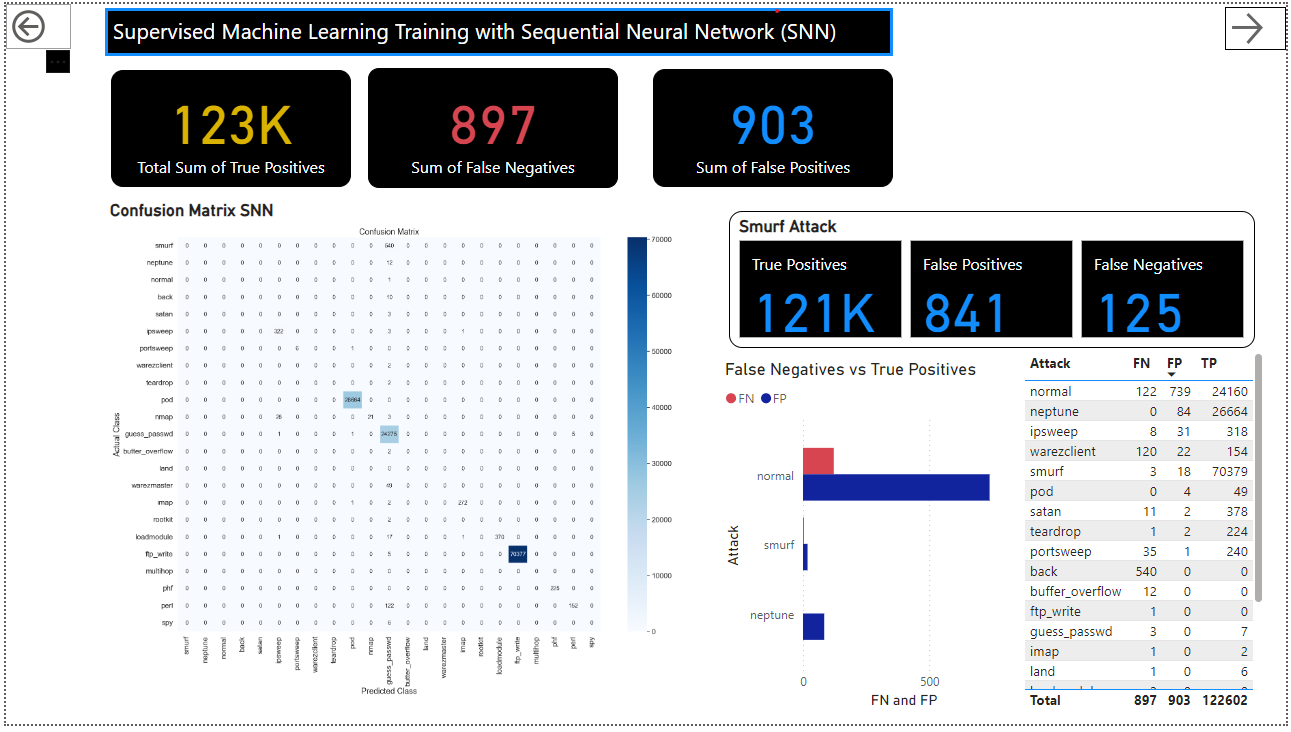

The dashboard page shown, as its layout file describes it:
{"tool":"powerbi","page":{"name":"ML Classification Techniques -SNN","canvas":[1280,720],"ordinal":2},"visuals":[{"type":"image","title":"Confusion Matrix SNN","box":[98.6,195.6,575.8,504.2],"z":0},{"type":"card","fields":{"Values":["Sum(CM.False Negatives)"]},"box":[361.7,63.5,250.5,120.9],"z":1000},{"type":"card","fields":{"Values":["Sum(CM.False Positives)"]},"box":[647.5,65.3,239.9,118.2],"z":2000},{"type":"card","fields":{"Values":["Sum(CM.True Positives)"]},"box":[105,66.2,239.9,117.3],"z":3000},{"type":"cardVisual","title":"Smurf Attack ","fields":{"Data":["Sum(CM.True Positives)","Sum(CM.False Positives)","Sum(CM.False Negatives)"]},"box":[723.4,207.3,525.8,136.7],"z":4000},{"type":"clusteredBarChart","title":"False Negatives vs  True Positives ","fields":{"Category":["CM.Attack"],"Y":["Sum(CM.False Negatives)","Sum(CM.False Positives)"]},"box":[713.7,354.6,299.9,354.6],"z":5000},{"type":"tableEx","fields":{"Values":["CM.Attack","Sum(CM.False Negatives)","Sum(CM.False Positives)","Sum(CM.True Positives)"]},"box":[1013.4,344,248.7,365.9],"z":6000},{"type":"textbox","box":[98.8,3.5,788.6,48.5],"z":7000},{"type":"actionButton","box":[1219.1,3.4,60.7,42.2],"z":8000},{"type":"actionButton","box":[0,0,64.5,45.4],"z":9000}]}

Visuals, with their boxes in screenshot pixels (x1, y1, x2, y2), scaled from the page's 1280x720 canvas onto the 1291x732 screenshot:
"Confusion Matrix SNN" image: crop(99, 199, 680, 711)
card - Sum(CM.False Negatives): crop(365, 65, 617, 187)
card - Sum(CM.False Positives): crop(653, 66, 895, 187)
card - Sum(CM.True Positives): crop(106, 67, 348, 187)
"Smurf Attack " cardVisual: crop(730, 211, 1260, 350)
"False Negatives vs  True Positives " clusteredBarChart: crop(720, 361, 1022, 721)
tableEx - CM.Attack x Sum(CM.False Negatives): crop(1022, 350, 1273, 722)
textbox: crop(100, 4, 895, 53)
actionButton: crop(1230, 3, 1290, 46)
actionButton: crop(0, 0, 65, 46)
